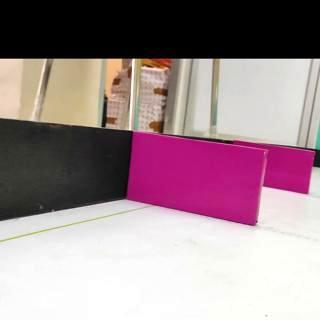xparking: (136, 148, 262, 218), (268, 151, 314, 193)
